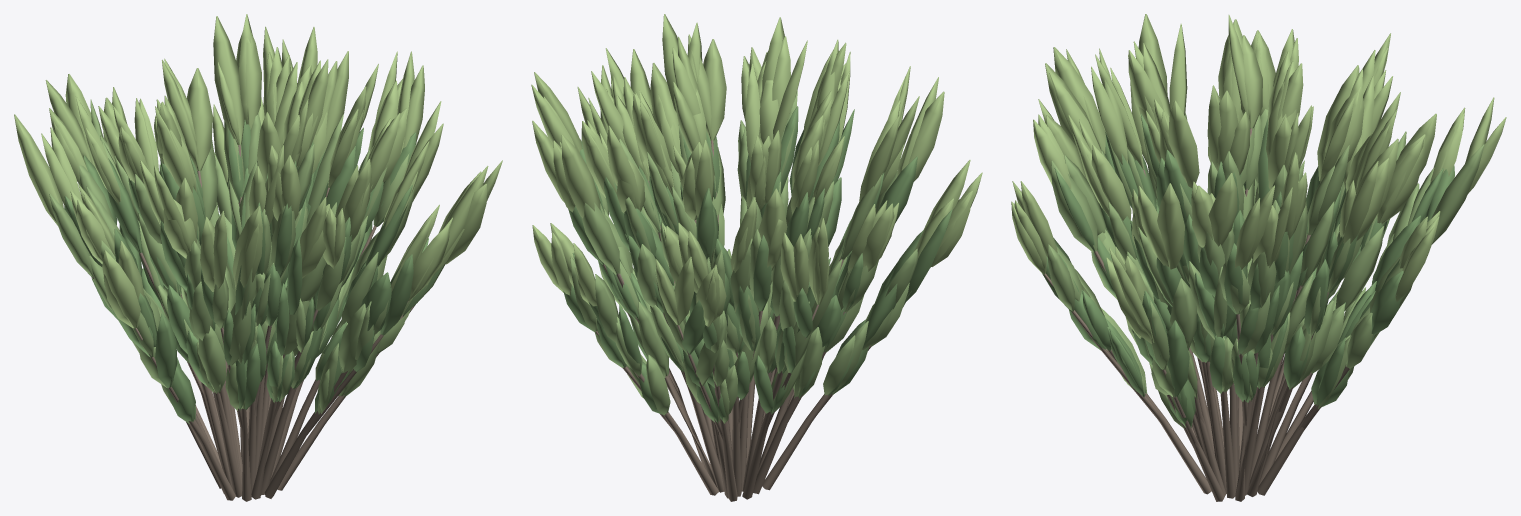
File: chirca_bush_4.glb
3 views of the same model, side by side, from view 1: azimuth 30°, elevation 25°; view 2: azimuth 150°, elevation 25°; view 3: azimuth 270°, elevation 25° (orthographic). The views are drawn at different scales.
Parts seen in each view (by area): view 1: ChircaFoliageTip, ChircaFoliageMid, ChircaFoliageDeep, ChircaStems; view 2: ChircaFoliageTip, ChircaFoliageMid, ChircaFoliageDeep, ChircaStems; view 3: ChircaFoliageTip, ChircaFoliageMid, ChircaFoliageDeep, ChircaStems.
Boxes of the visible parts, <box> form: ChircaFoliageTip: <box>14,14,502,328</box>; ChircaFoliageMid: <box>49,99,445,422</box>; ChircaFoliageDeep: <box>64,120,443,423</box>; ChircaStems: <box>92,144,415,501</box>; ChircaFoliageTip: <box>531,14,982,326</box>; ChircaFoliageMid: <box>570,90,935,423</box>; ChircaFoliageDeep: <box>563,106,952,423</box>; ChircaStems: <box>595,140,930,501</box>; ChircaFoliageTip: <box>1011,14,1506,343</box>; ChircaFoliageMid: <box>1048,107,1484,428</box>; ChircaFoliageDeep: <box>1042,114,1454,427</box>; ChircaStems: <box>1044,128,1372,501</box>.
Size of the model in its own units: 1.9 by 2 by 2.02.
